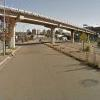Bridge: (9, 2, 85, 46)
